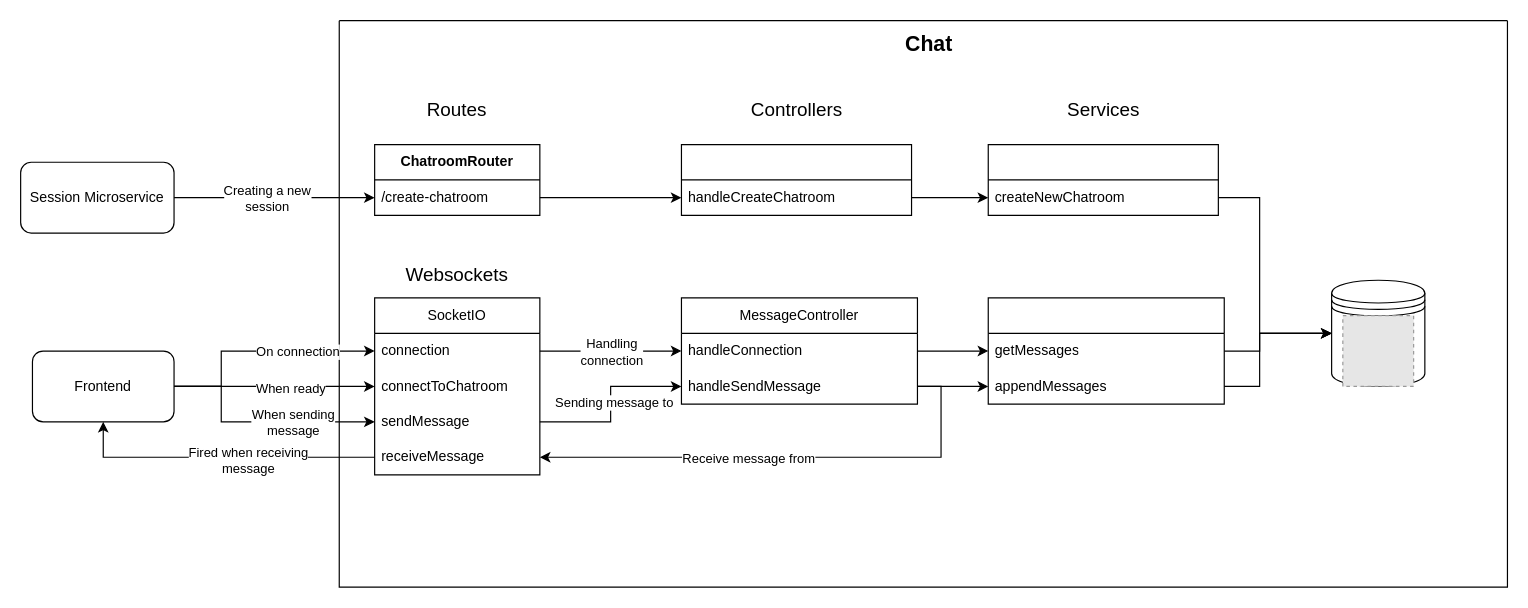
The diagram is 1528 pixels wide and 608 high, and some of its shapes have lost their labels. Grey dashed boxes stand in for pictures. Each missing label, with the box of its shape:
ChatroomController: (680, 143, 912, 215)
ChatroomService: (987, 143, 1218, 215)
MessageService: (987, 297, 1224, 404)
